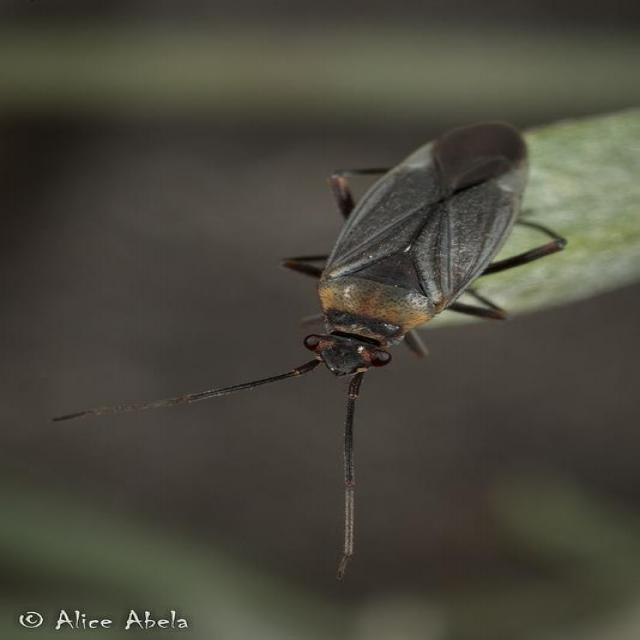Miridae-Adult-: (130, 119, 576, 419)
